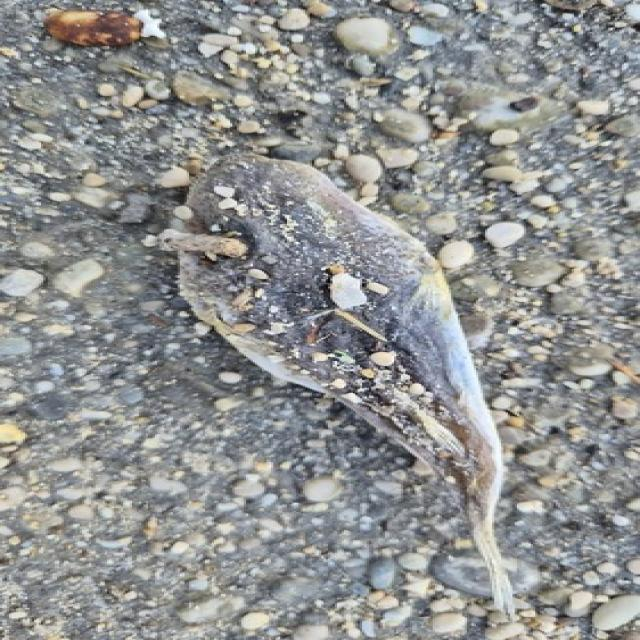Balik: (162, 155, 512, 614)
